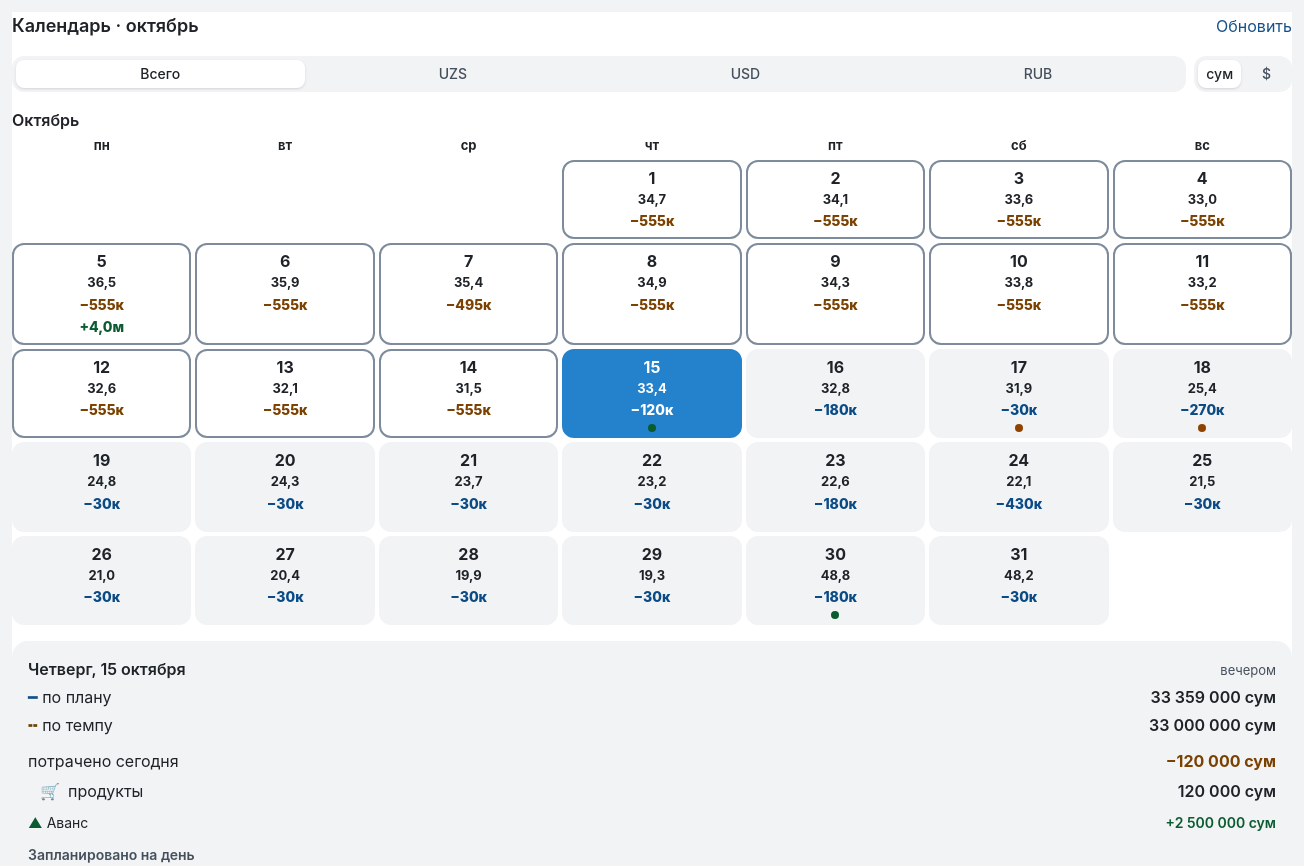
Test: ForecastScreen › shows a refund of a day as a refund
Click the radio button labelled "UZS".
click(453, 74)  # box x1=309 y1=60 x2=597 y2=88
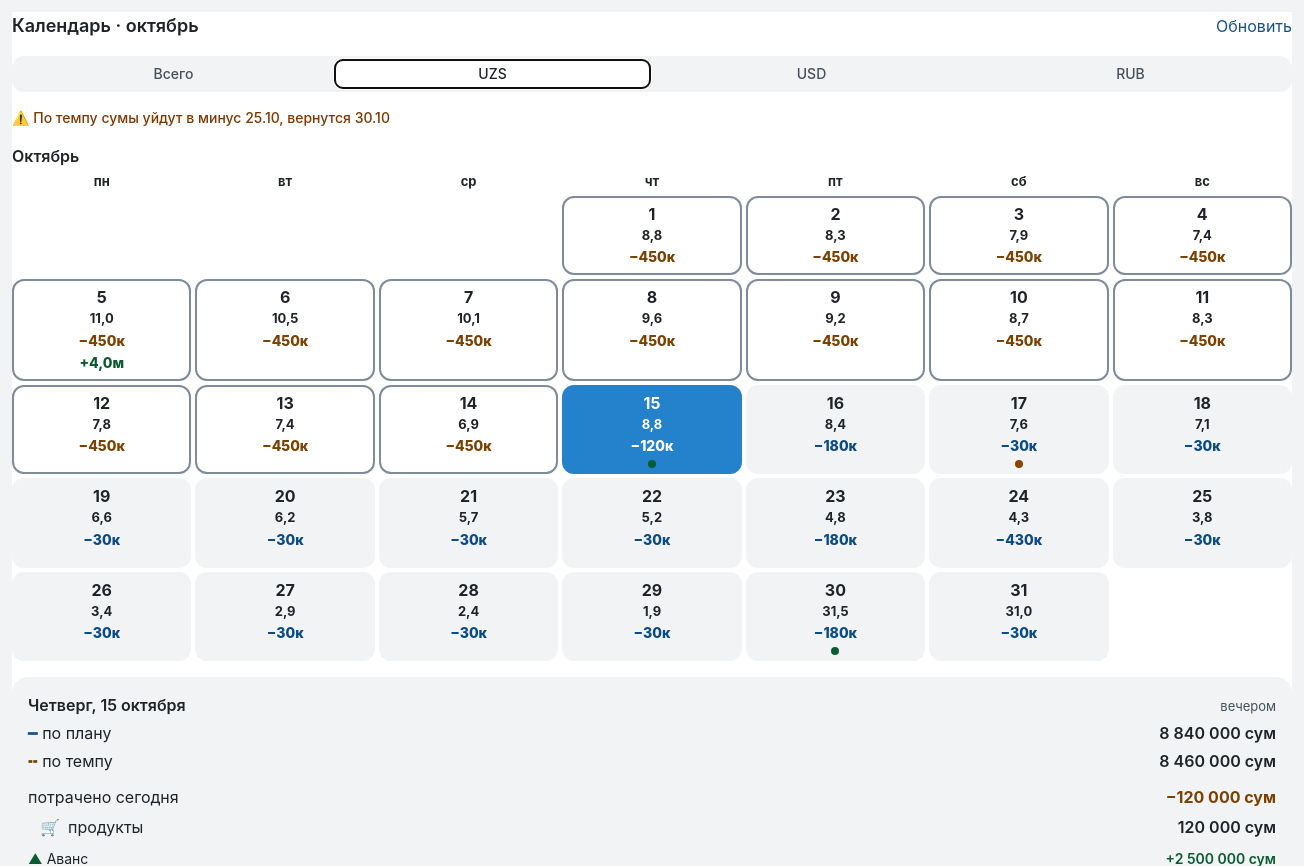
Click the button "9 9,2 −450к".
click(835, 330)  # box x1=746 y1=279 x2=925 y2=380
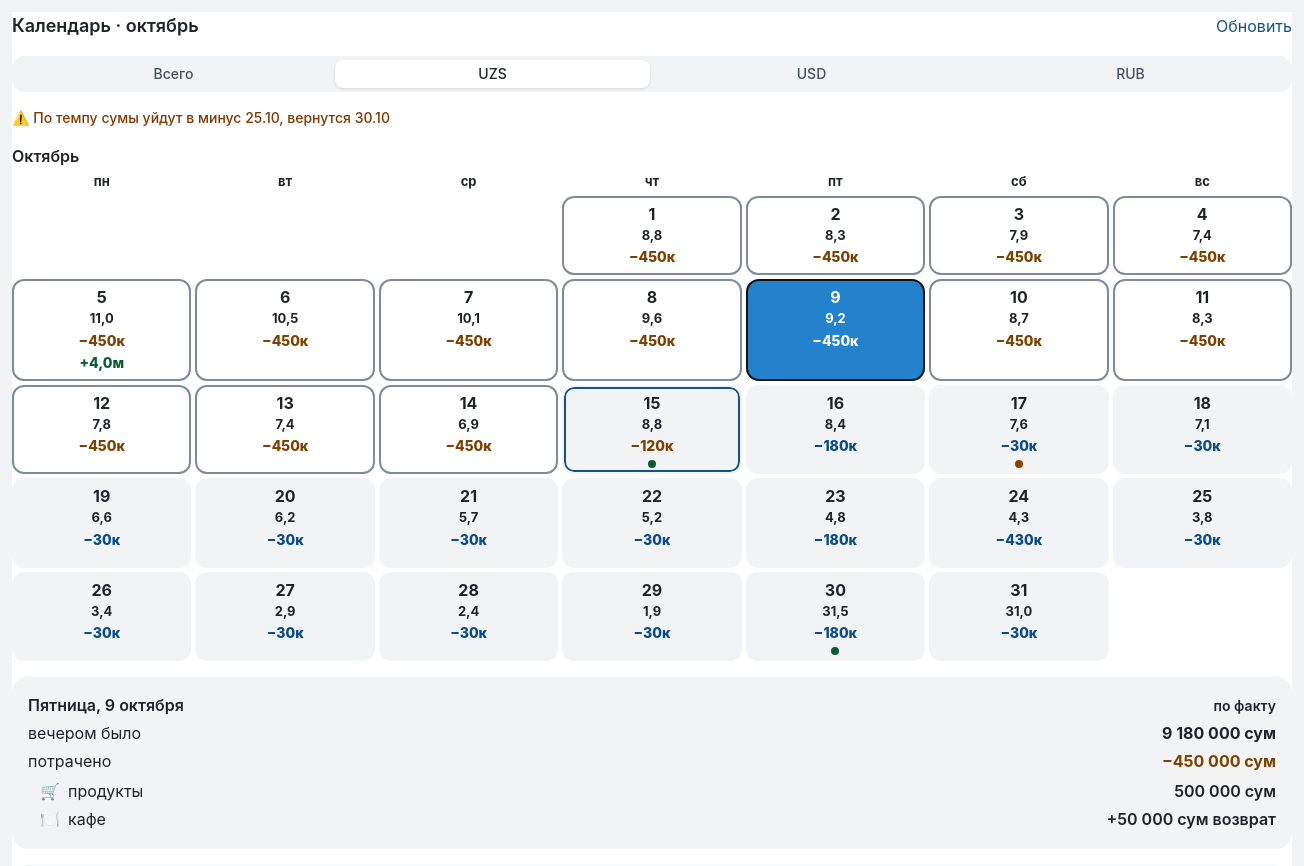
expect the text "+50 000 сум возврат" is shown: met, box x1=1106 y1=807 x2=1276 y2=831
